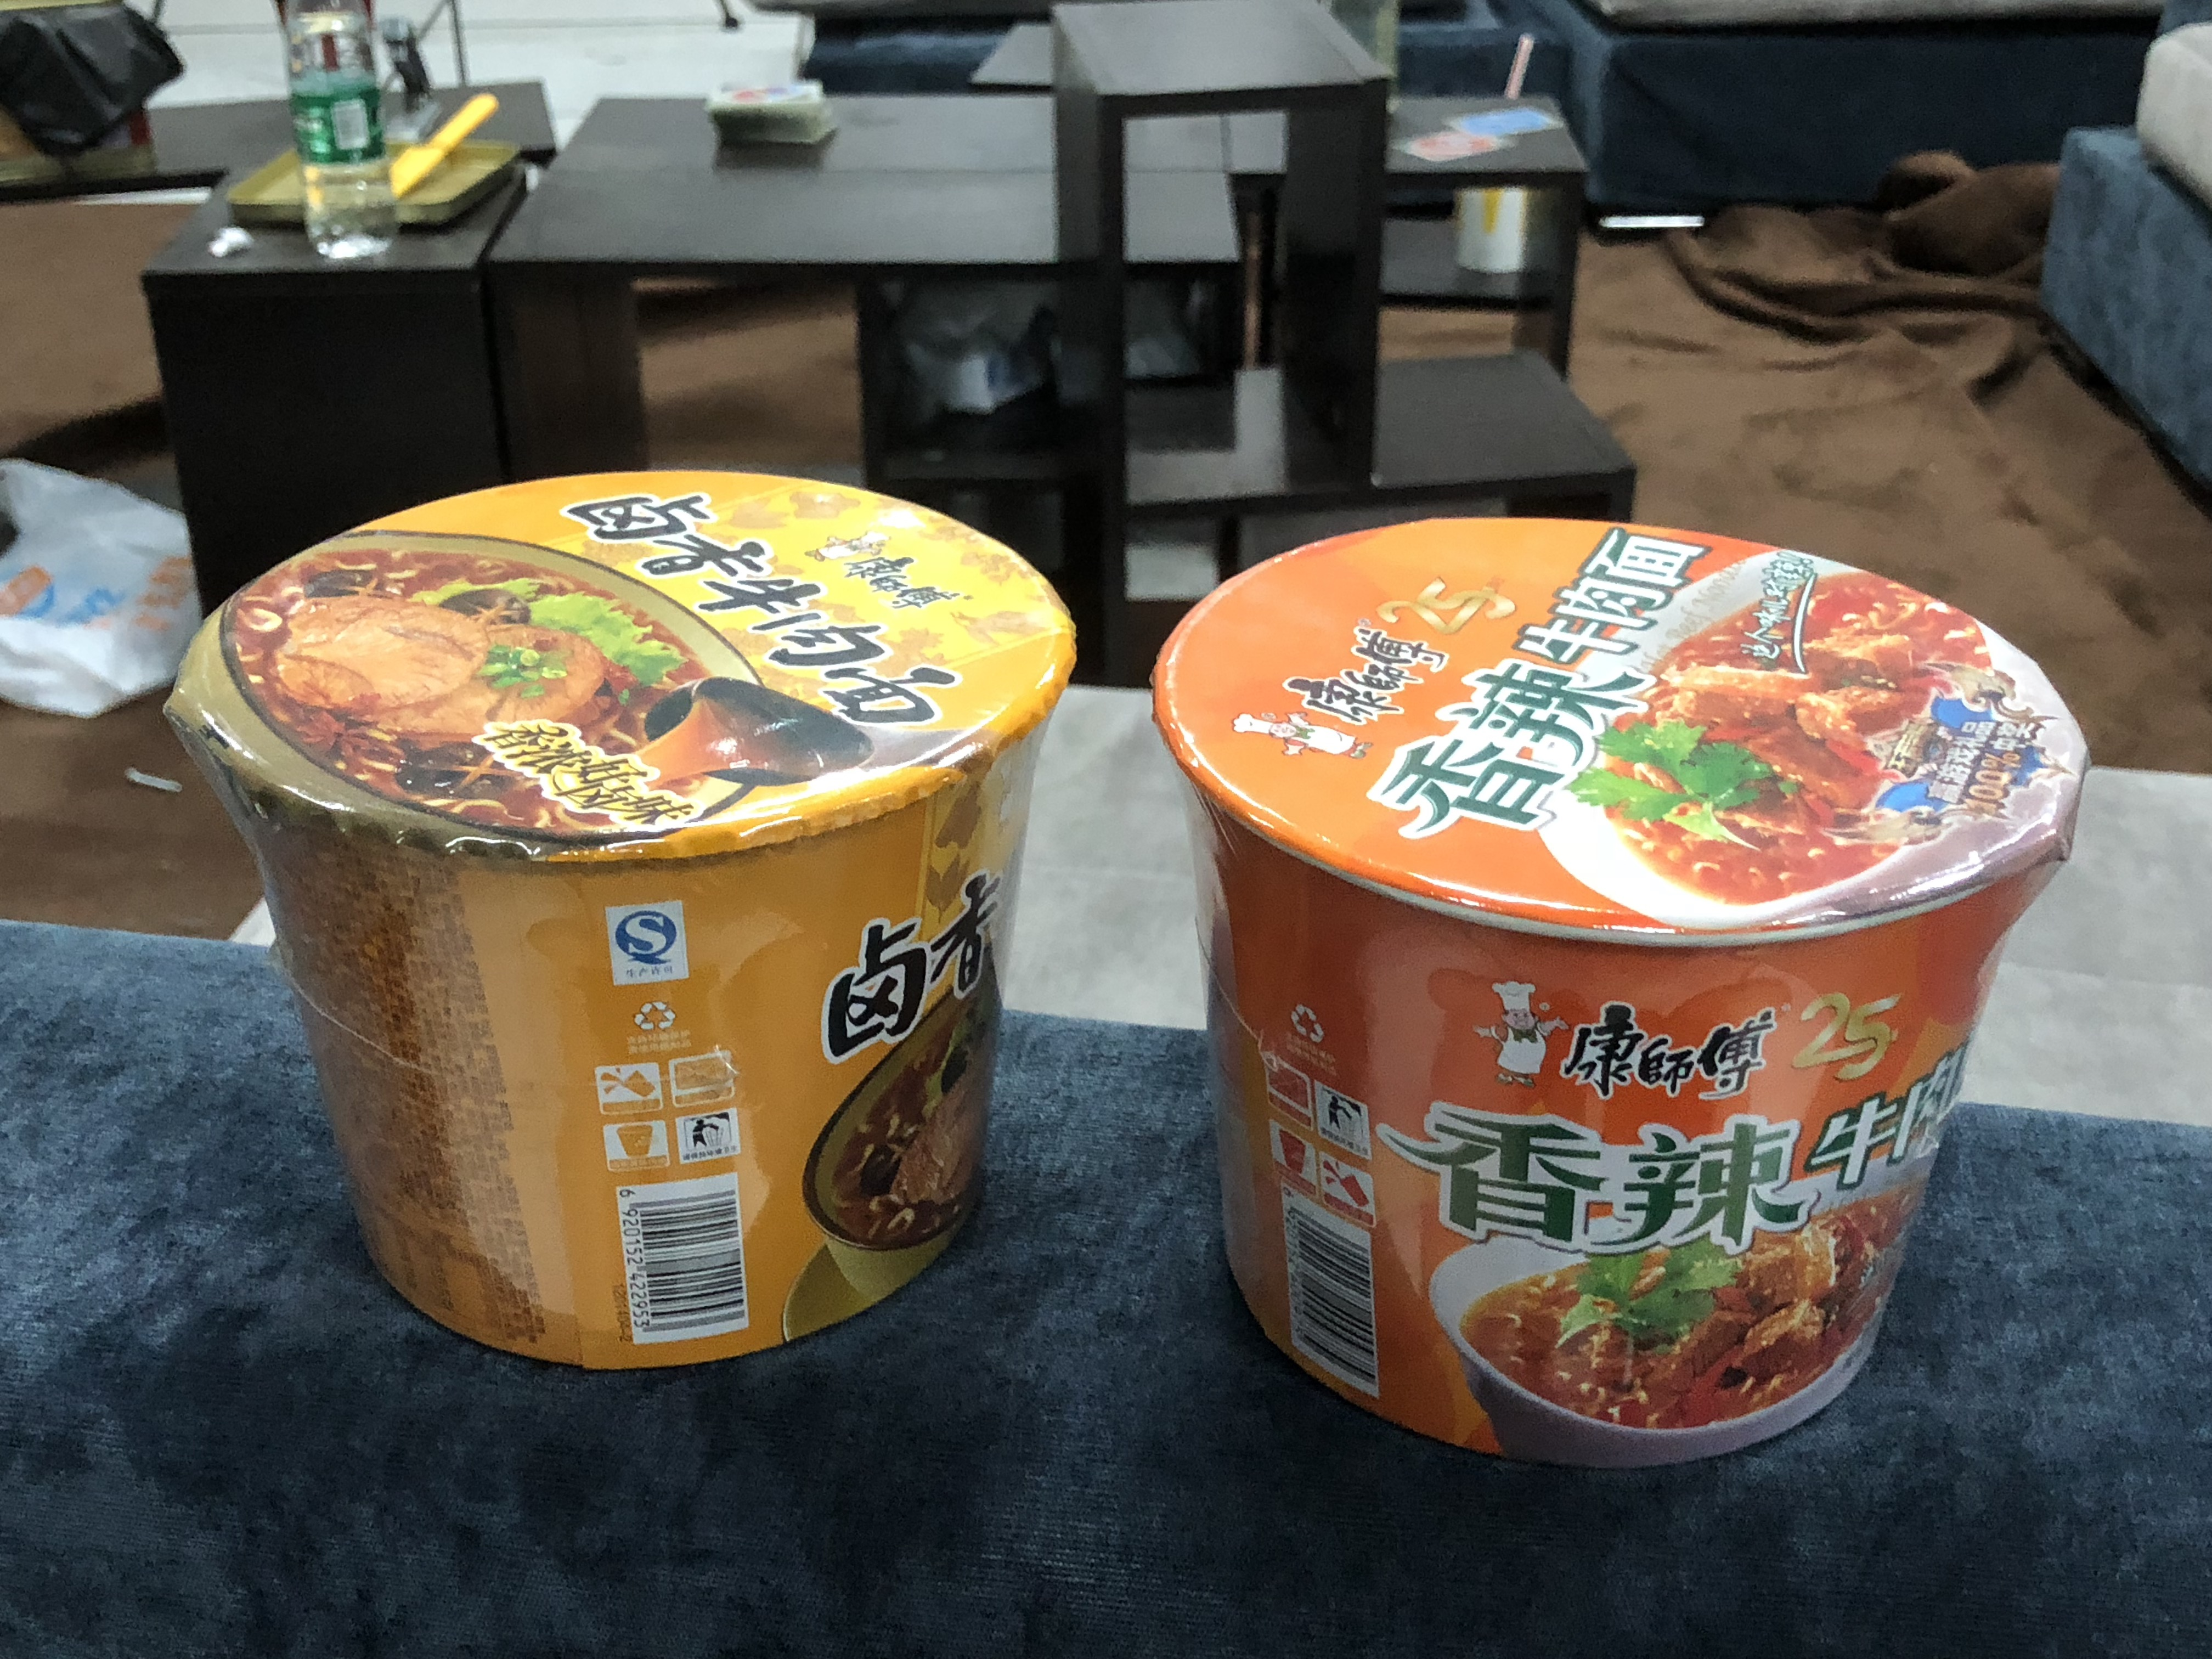luxiang: (158, 467, 1085, 1368)
xiangla: (1148, 512, 2090, 1476)
